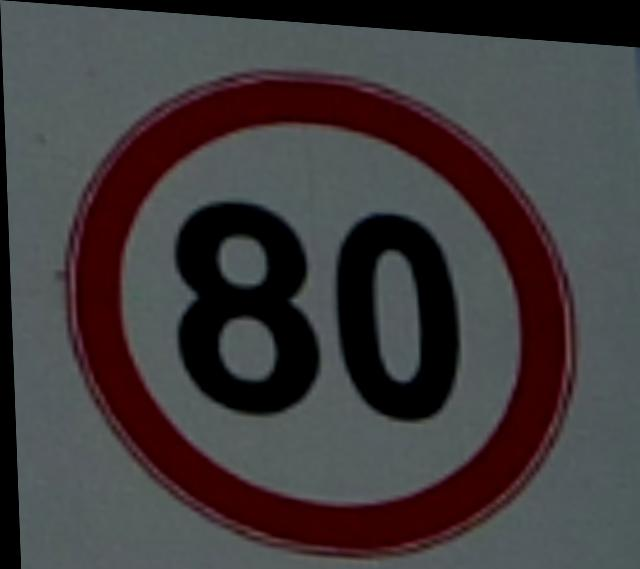limit80: (42, 41, 595, 569)
